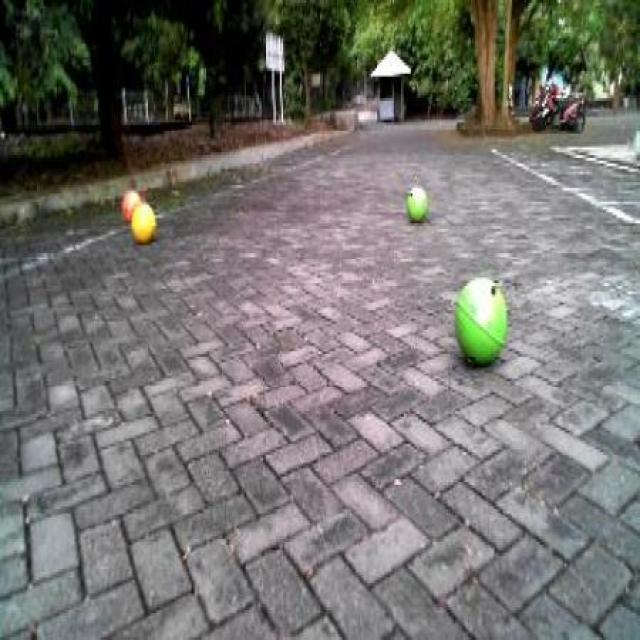buoy: (456, 270, 510, 370), (129, 193, 157, 245), (402, 180, 429, 224), (121, 181, 141, 219)
